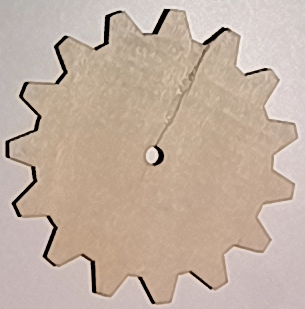Crack: (153, 38, 216, 145)
